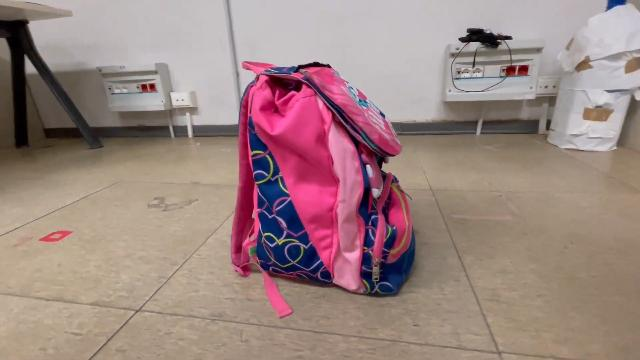Backpack: (223, 55, 424, 325)
